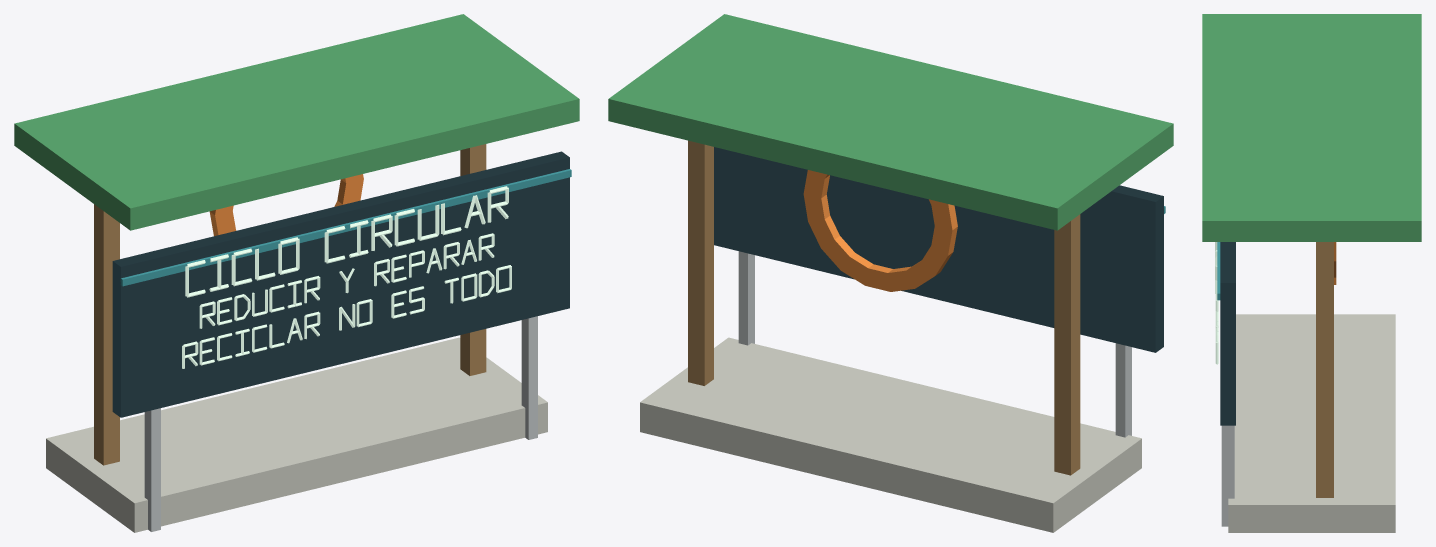
The model's file is CYCLE-004.glb.
3 renders of one model, left to right at view 1: azimuth 30°, elevation 25°; view 2: azimuth 150°, elevation 25°; view 3: azimuth 270°, elevation 25°, orthographic. The views are drawn at different scales.
Parts seen in each view (by area): view 1: CYCLE-004; view 2: CYCLE-004; view 3: CYCLE-004.
Part boxes in pixels (x1,y1,x2,y2): CYCLE-004: (14,14,579,532); CYCLE-004: (608,14,1173,532); CYCLE-004: (1202,14,1421,532).
Bounding box in the file's own units: 3.8 × 2.74 × 1.7.
